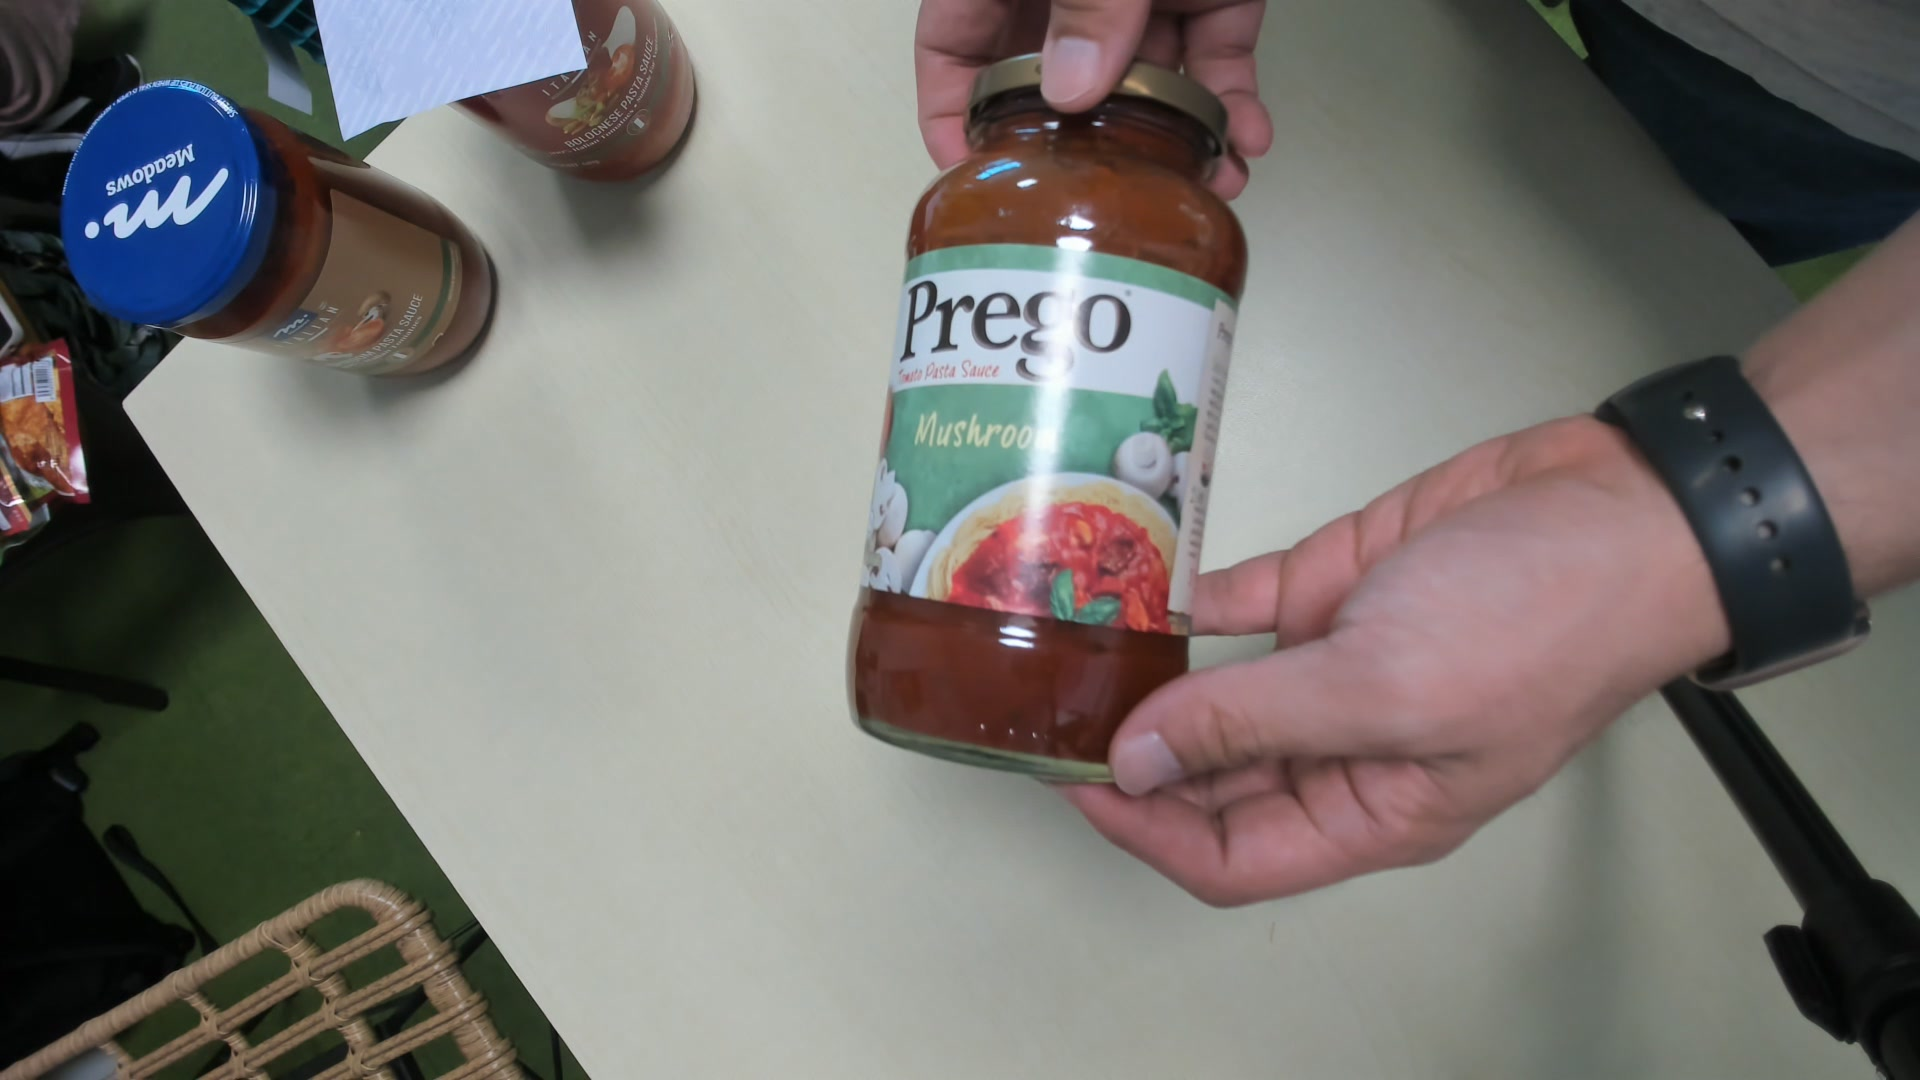PastaSauce_600-699g_Halal_NonHealthy: (840, 45, 1250, 785)
